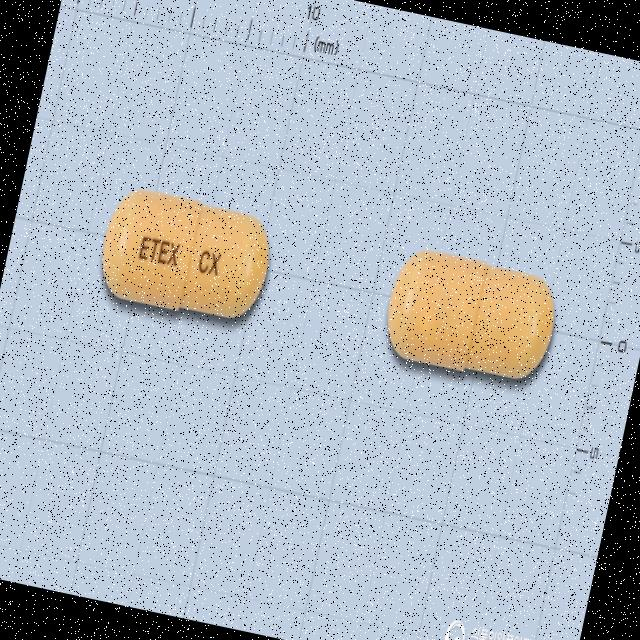Cefixime Cap- Etex: (86, 177, 283, 340), (372, 240, 566, 396)
